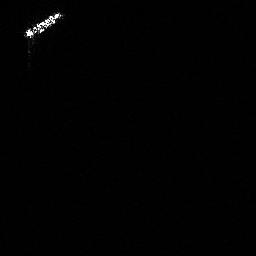ship: (20, 8, 66, 42)
